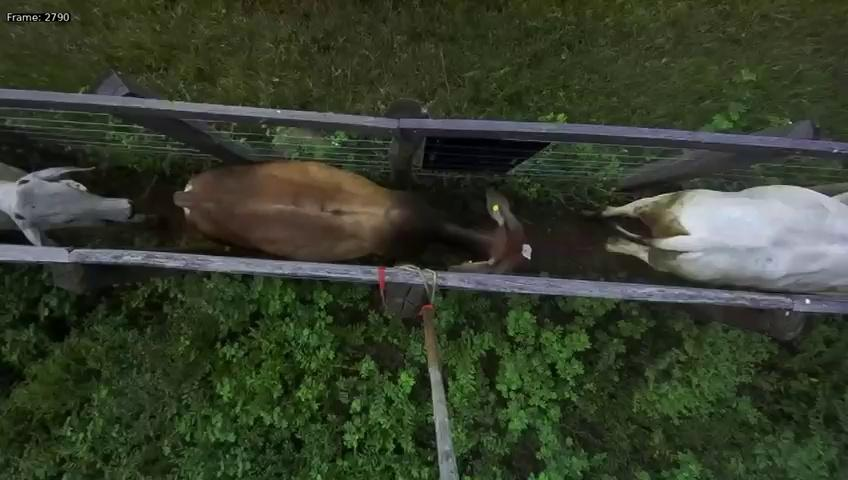cattle: (166, 151, 541, 280)
